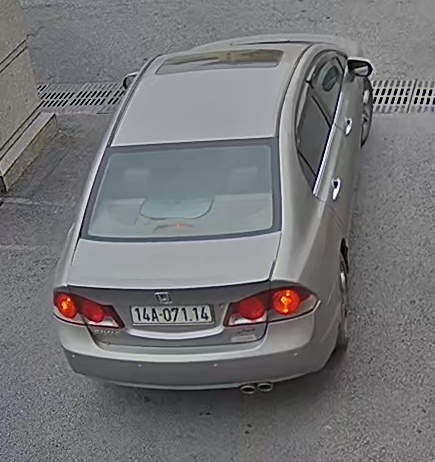vehicle plate: (124, 300, 216, 329)
